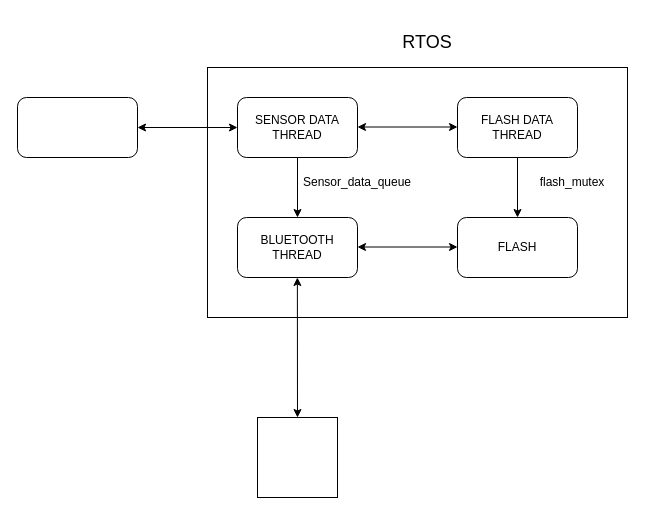
Image size: 645x515. Some labels were removed from this diagram. The shapes that lost their labels are listed below. From the top down, each one's centre as x and y in pixels, then its label:
At (x=77, y=127): "SENSORS PPG, IMU".
At (x=297, y=457): "MOBILE PHONE".
